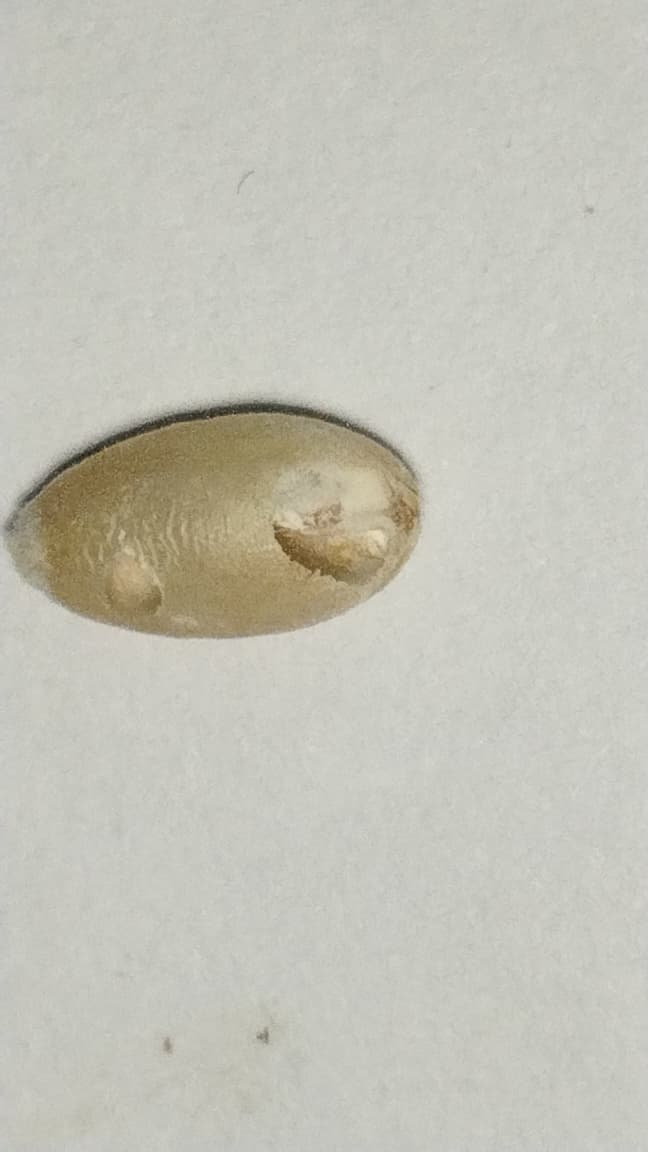damage: (40, 403, 420, 636)
insectdamage: (265, 444, 423, 583), (94, 531, 200, 637)
